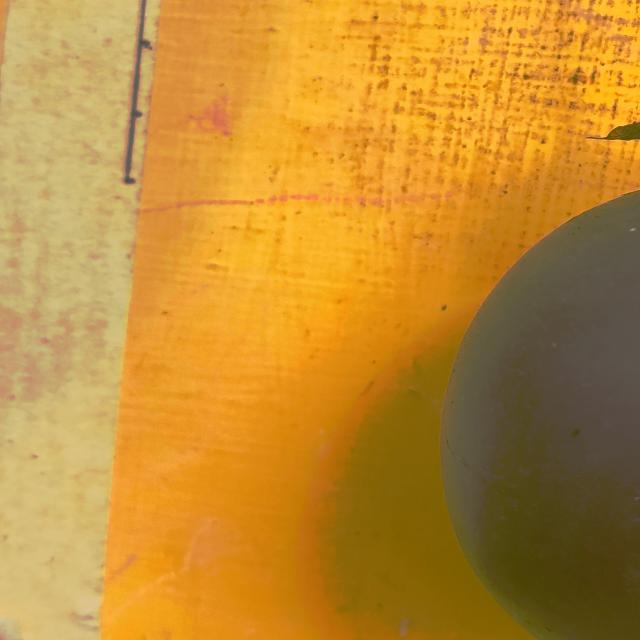Estado-6: (442, 191, 640, 640)
